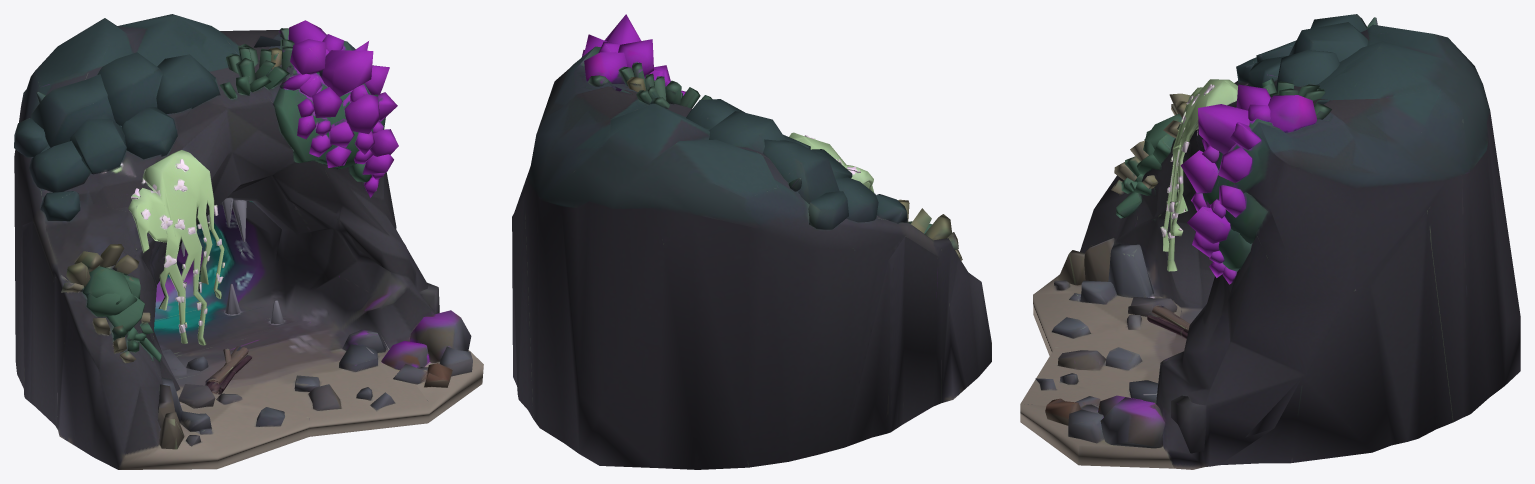
File: cave.fbx
3 renders of one model, left to right at view 1: azimuth 30°, elevation 25°; view 2: azimuth 150°, elevation 25°; view 3: azimuth 270°, elevation 25°, orthographic. The views are drawn at different scales.
Visible parts, largest first — view 1: Mesh_0; view 2: Mesh_0; view 3: Mesh_0.
Part boxes in pixels (x1=…): Mesh_0: x1=14, y1=14, x2=483, y2=469; Mesh_0: x1=512, y1=14, x2=991, y2=469; Mesh_0: x1=1020, y1=14, x2=1520, y2=469.
Bounding box in the file's own units: 91.99 × 70.12 × 96.04.
Materials: 1 (1 with a texture image).
